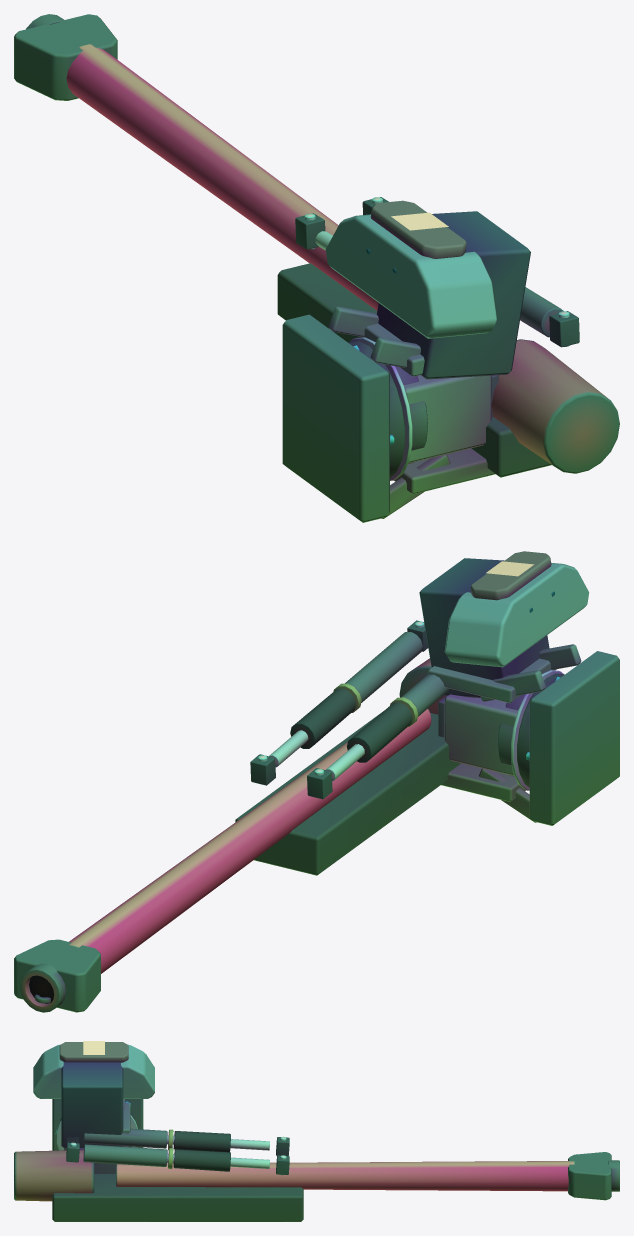
Rendered from arm_m777.glb.
3 views of the same model, one above another, from view 1: azimuth 30°, elevation 25°; view 2: azimuth 150°, elevation 25°; view 3: azimuth 270°, elevation 25° (orthographic). The views are drawn at different scales.
Visible parts, largest first — view 1: Body__gunmetal, Body__armor, Body__dark, Body__armor_sub, Body__armor_oxide, Body__chrome; view 2: Body__armor, Body__gunmetal, Body__dark, Body__armor_sub, Body__rubber, Body__chrome, Body__armor_oxide; view 3: Body__dark, Body__armor, Body__gunmetal, Body__rubber, Body__chrome, Body__armor_oxide, Body__decal.
Part boxes in pixels (<box>): Body__gunmetal: <box>14,14,619,522</box>; Body__armor: <box>66,44,497,463</box>; Body__dark: <box>277,197,579,477</box>; Body__armor_sub: <box>328,306,495,518</box>; Body__armor_oxide: <box>370,200,466,258</box>; Body__chrome: <box>304,197,569,480</box>; Body__armor: <box>69,562,589,973</box>; Body__gunmetal: <box>14,632,619,1012</box>; Body__dark: <box>235,558,564,875</box>; Body__armor_sub: <box>428,644,581,822</box>; Body__rubber: <box>290,688,412,762</box>; Body__chrome: <box>258,621,563,790</box>; Body__armor_oxide: <box>470,551,551,600</box>; Body__dark: <box>52,1062,303,1221</box>; Body__armor: <box>33,1044,574,1191</box>; Body__gunmetal: <box>14,1099,619,1201</box>; Body__rubber: <box>173,1131,230,1171</box>; Body__chrome: <box>55,1101,286,1175</box>; Body__armor_oxide: <box>59,1042,128,1062</box>; Body__decal: <box>83,1041,104,1054</box>.
Bounding box in the file's own units: 0.85 × 0.9269 × 3.33.
